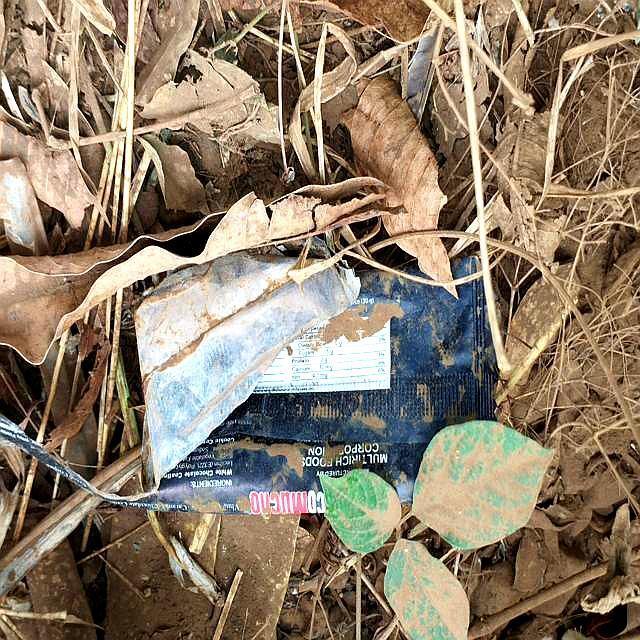Non-biodegradable: (133, 255, 489, 521)
